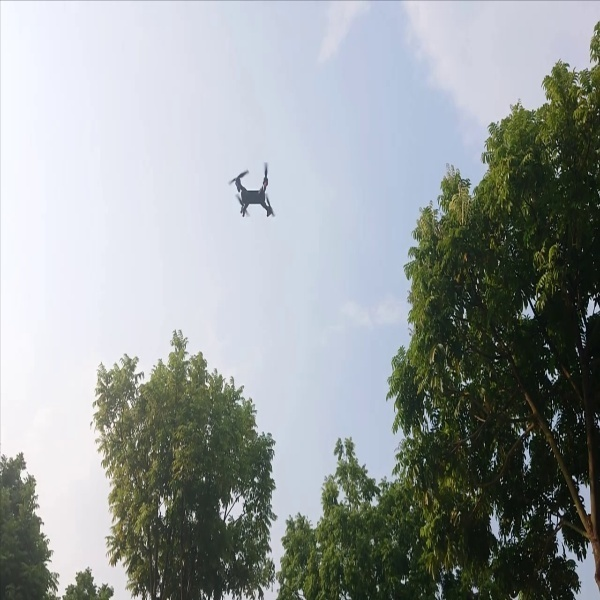drone: (220, 164, 289, 228)
